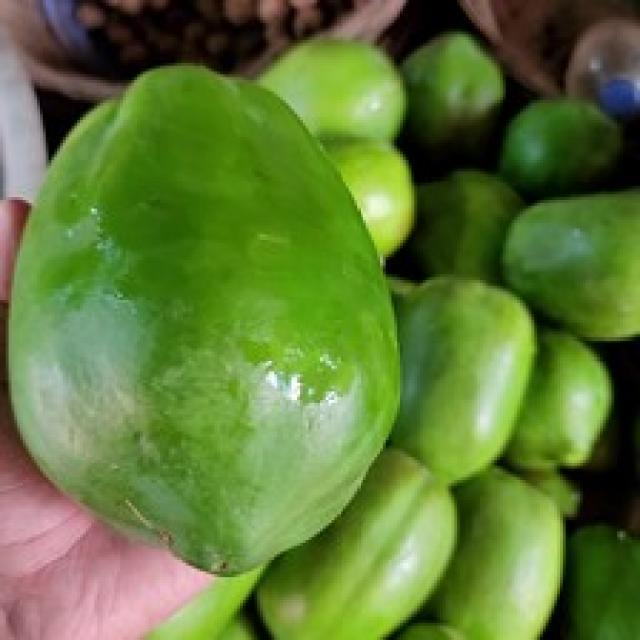Pepaya unrippen: (1, 49, 410, 583)
